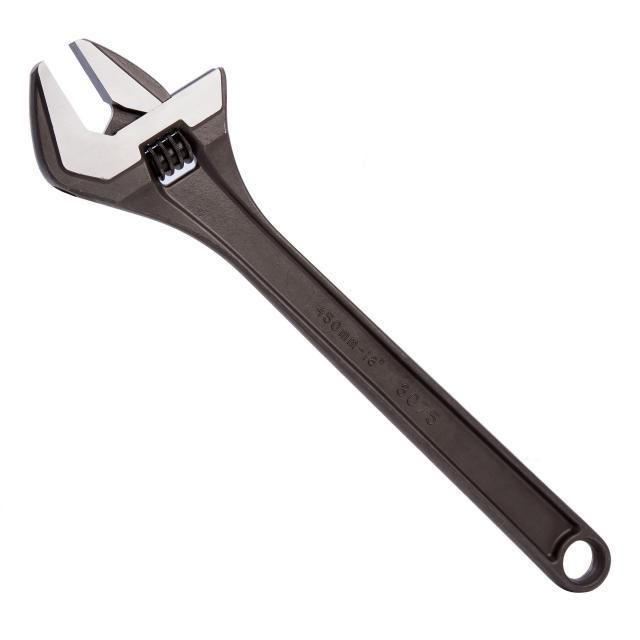wrench: (20, 32, 620, 601)
